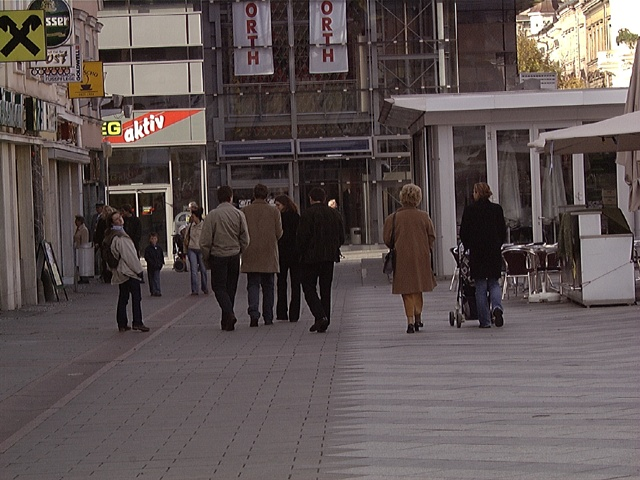person: (455, 177, 512, 330), (286, 182, 342, 332), (196, 182, 253, 329), (380, 182, 433, 327), (98, 207, 154, 336), (234, 181, 283, 324), (271, 196, 307, 321)
